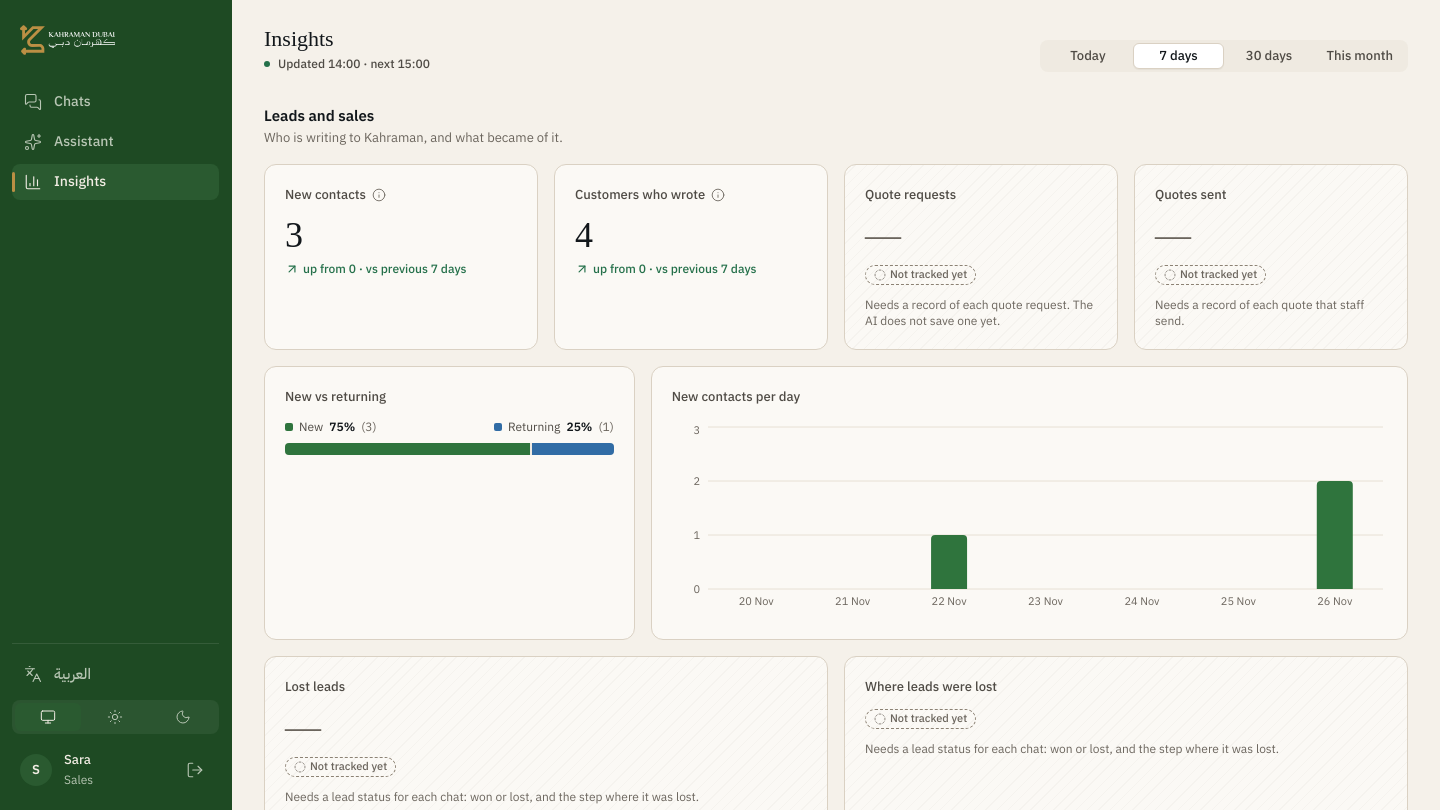
Test: insights › shows the live numbers of the chosen period, and labels estimates
Check: the text "Updated 14:00 · next 15:00" is shown, box [278,56,430,72]
Check: the element "New contacts" shows "3", box [285,215,302,255]
Click the button "Today" at [1088, 56], box [1043,43,1133,69]
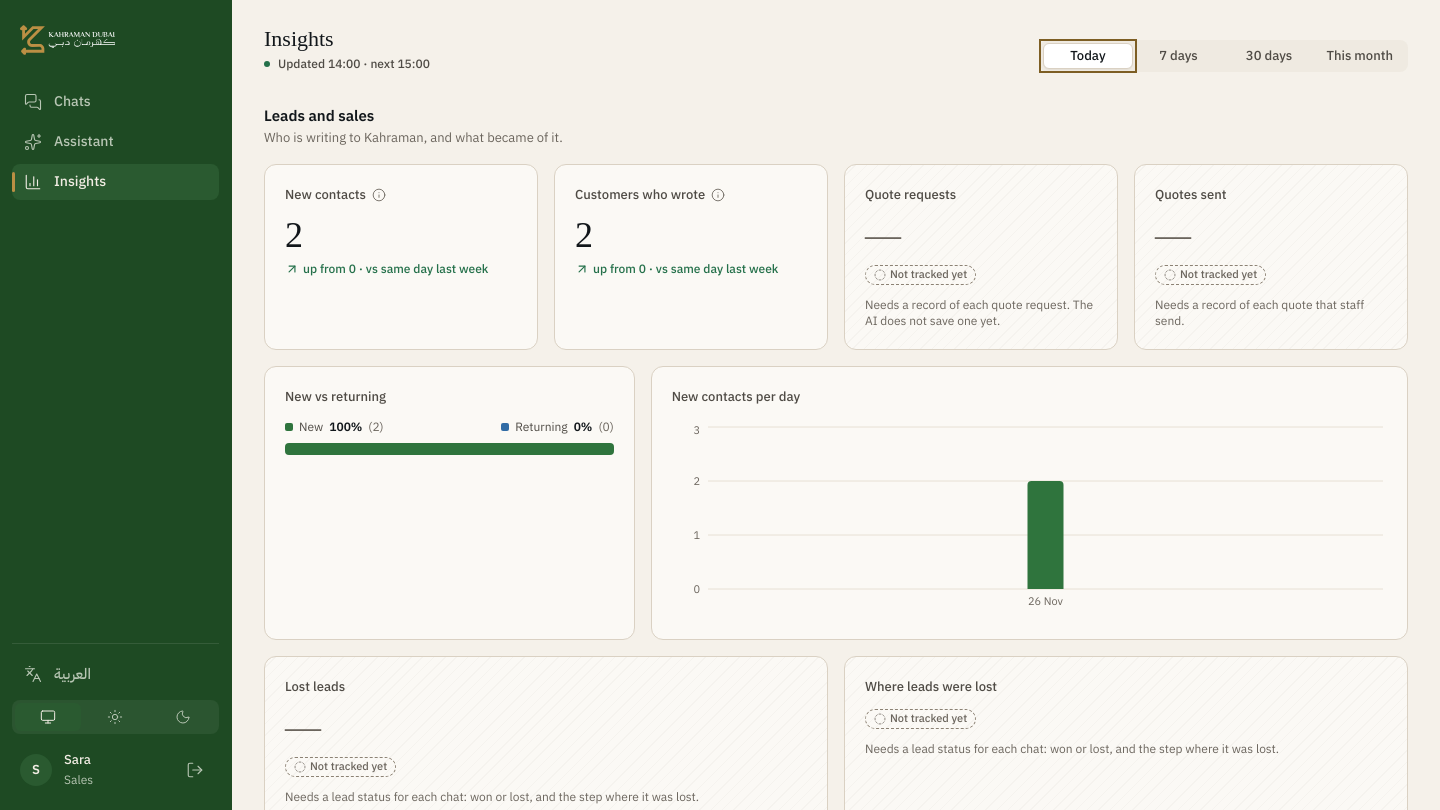
Check: the element "New contacts" shows "2", box [285,215,302,255]
